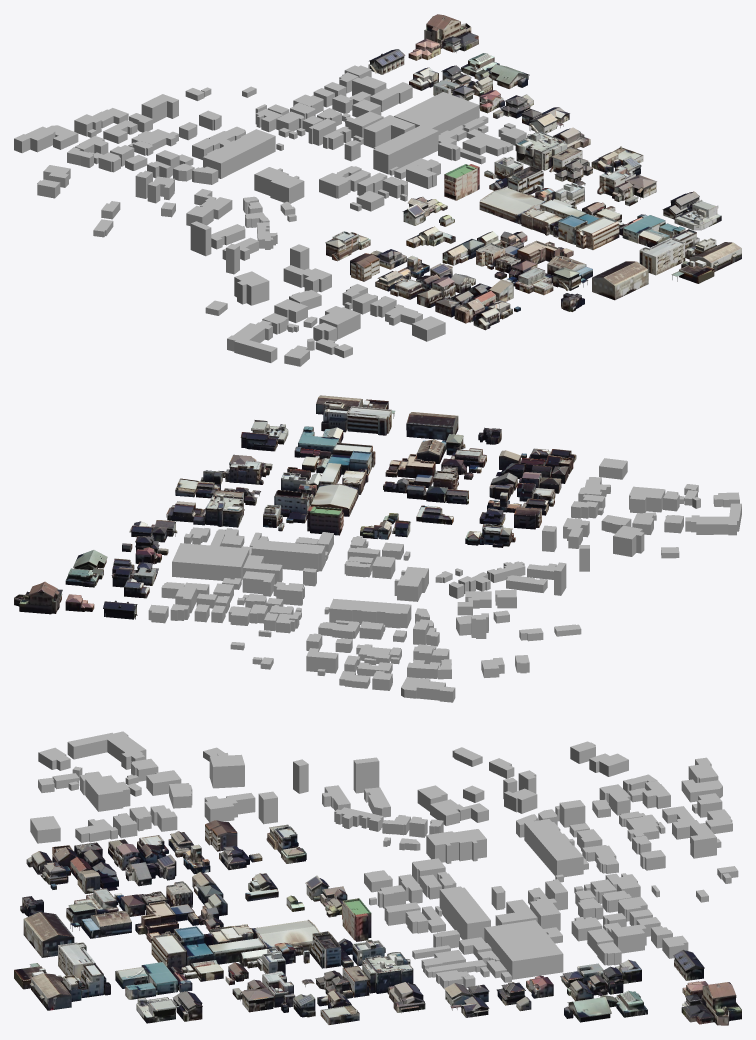
Rendered from station-2-0-packed.glb.
3 views of the same model, one above another, from view 1: azimuth 30°, elevation 25°; view 2: azimuth 150°, elevation 25°; view 3: azimuth 270°, elevation 25° (orthographic). The views are drawn at different scales.
Bounding box in the file's own units: 320 × 16.81 × 352.
10 materials, 9 textured.
